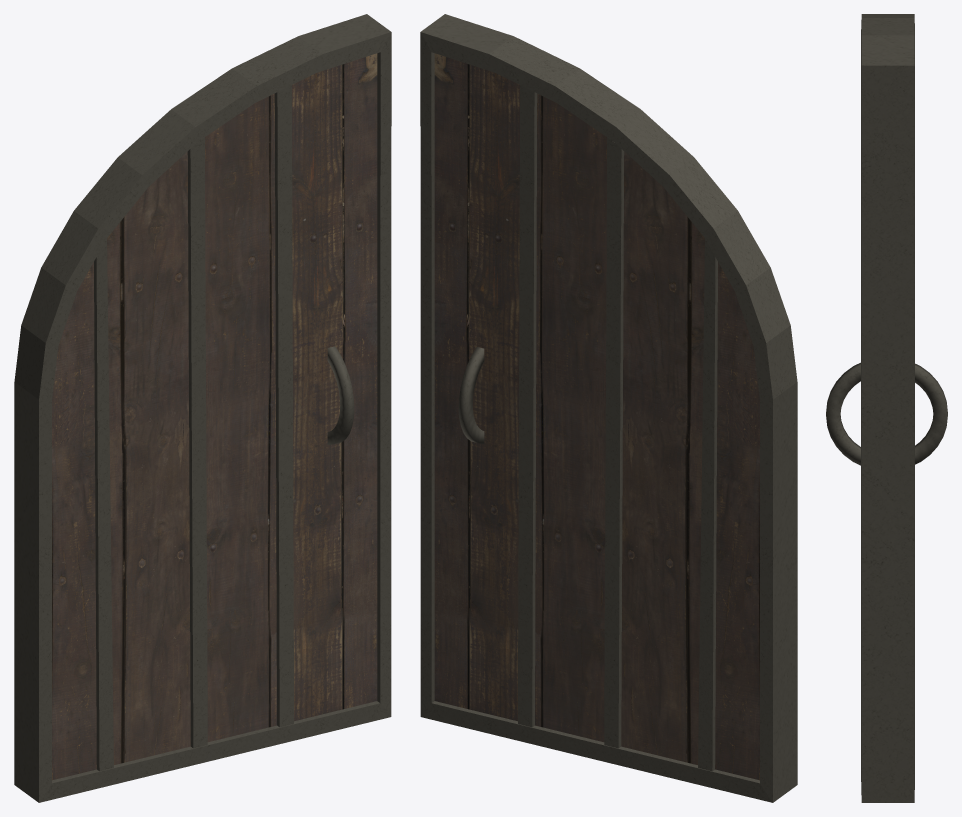
Rendered from Door.fbx.
3 renders of one model, left to right at view 1: azimuth 30°, elevation 25°; view 2: azimuth 150°, elevation 25°; view 3: azimuth 270°, elevation 25°, orthographic. The views are drawn at different scales.
Visible parts, largest first — view 1: JednostranneDvere; view 2: JednostranneDvere; view 3: JednostranneDvere.
Boxes of the visible parts, x1,y1,x2,y2 form: JednostranneDvere: [14, 14, 391, 802]; JednostranneDvere: [420, 14, 797, 802]; JednostranneDvere: [826, 14, 947, 802].
Bounding box in the file's own units: 179 × 333 × 49.81.
